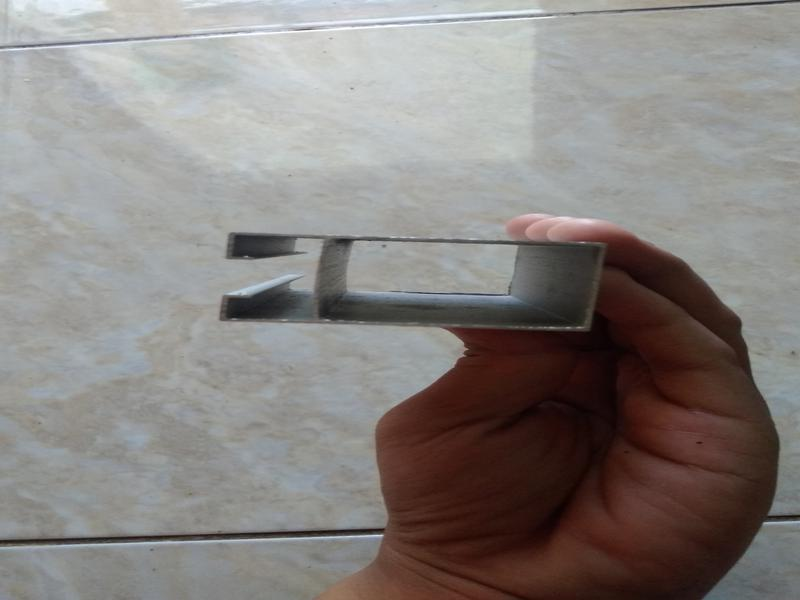Aluminium_1: (208, 197, 635, 358)
